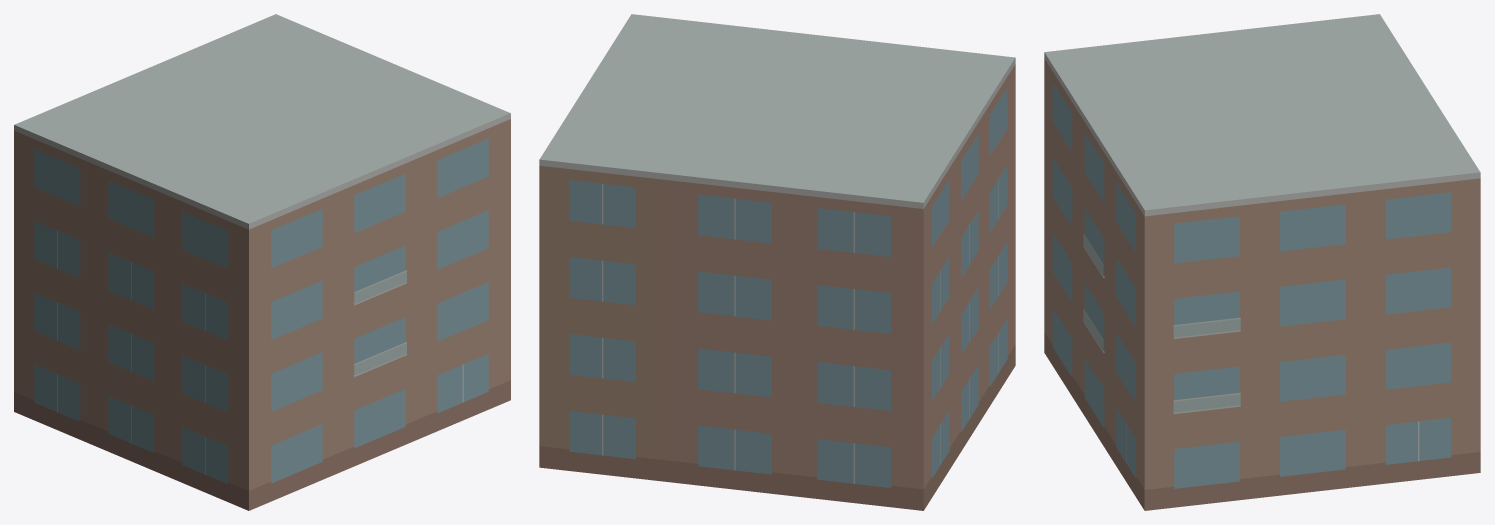
The model's file is residential-ee9fca9d-03e0-4aa0-b56d-24b80b72b360.glb.
The picture shows the model from 3 angles, left to right: view 1: azimuth 30°, elevation 25°; view 2: azimuth 150°, elevation 25°; view 3: azimuth 270°, elevation 25°; orthographic projection. The views are drawn at different scales.
Parts seen in each view (by area): view 1: residential-ee9fca9d-03e0-4aa0-b56d-24b80b72b360.tmp; view 2: residential-ee9fca9d-03e0-4aa0-b56d-24b80b72b360.tmp; view 3: residential-ee9fca9d-03e0-4aa0-b56d-24b80b72b360.tmp.
Part boxes in pixels (x1,y1,x2,y2): residential-ee9fca9d-03e0-4aa0-b56d-24b80b72b360.tmp: (14, 14, 510, 510); residential-ee9fca9d-03e0-4aa0-b56d-24b80b72b360.tmp: (539, 14, 1015, 510); residential-ee9fca9d-03e0-4aa0-b56d-24b80b72b360.tmp: (1044, 14, 1480, 510).
Bounding box in the file's own units: 17.11 × 12.2 × 16.06.
